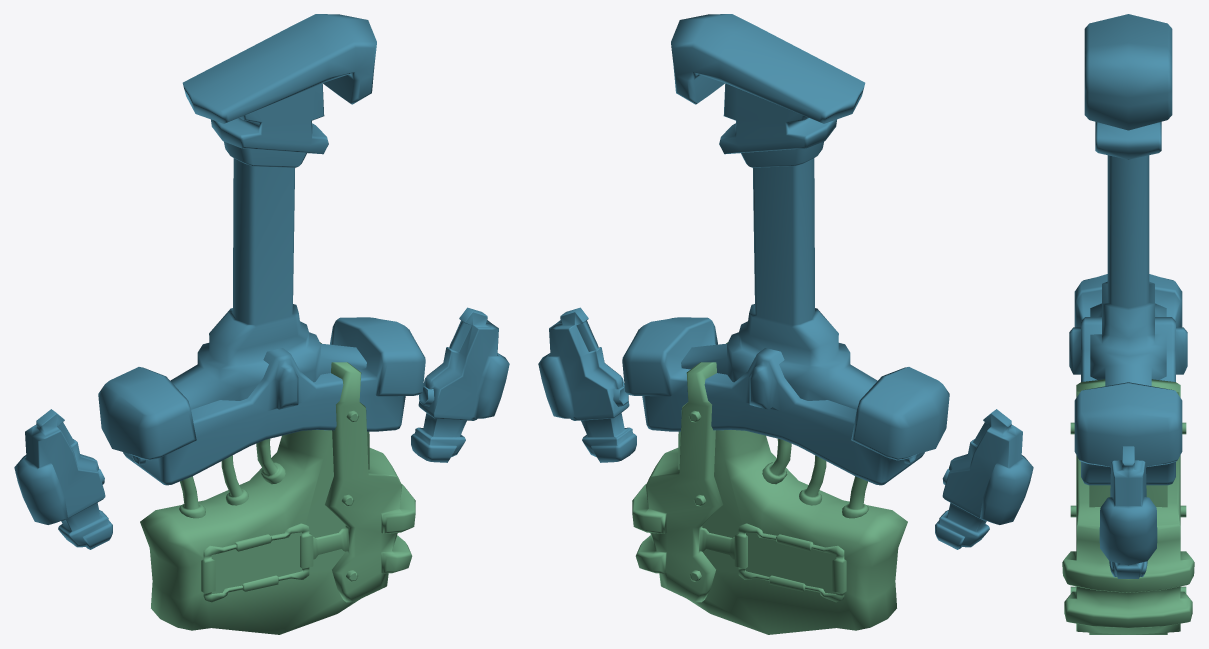
File: Sword_LP_v05.fbx
3 views of the same model, side by side, from view 1: azimuth 30°, elevation 25°; view 2: azimuth 150°, elevation 25°; view 3: azimuth 270°, elevation 25° (orthographic). The views are drawn at different scales.
Parts seen in each view (by area): view 1: heft_low, main_low, griff_bot_low, float_thing_low, griff_top_low, side_big_low, griff_mid_low, sign_screen_low, sign_frame_low, tube_3_low, tube_2_low, tube_1_low; view 2: heft_low, main_low, griff_bot_low, float_thing_low, griff_top_low, side_big_low, griff_mid_low, sign_screen_low, sign_frame_low, tube_3_low, tube_2_low, tube_1_low; view 3: heft_low, side_big_low, griff_bot_low, griff_top_low, float_thing_low, griff_mid_low, main_low, bolts_small_low.
Boxes of the visible parts, x1=… form: heft_low: x1=98, y1=317, x2=425, y2=485; main_low: x1=140, y1=430, x2=369, y2=634; griff_bot_low: x1=170, y1=141, x2=366, y2=409; float_thing_low: x1=14, y1=307, x2=509, y2=549; griff_top_low: x1=182, y1=14, x2=376, y2=123; side_big_low: x1=313, y1=342, x2=415, y2=602; griff_mid_low: x1=211, y1=83, x2=328, y2=154; sign_screen_low: x1=211, y1=532, x2=301, y2=593; sign_frame_low: x1=201, y1=523, x2=313, y2=602; tube_3_low: x1=256, y1=438, x2=285, y2=484; tube_2_low: x1=221, y1=455, x2=248, y2=505; tube_1_low: x1=179, y1=476, x2=205, y2=518; heft_low: x1=622, y1=317, x2=949, y2=485; main_low: x1=678, y1=430, x2=907, y2=634; griff_bot_low: x1=681, y1=141, x2=877, y2=409; float_thing_low: x1=538, y1=307, x2=1033, y2=549; griff_top_low: x1=671, y1=14, x2=865, y2=123; side_big_low: x1=632, y1=342, x2=734, y2=602; griff_mid_low: x1=719, y1=83, x2=836, y2=154; sign_screen_low: x1=746, y1=532, x2=836, y2=593; sign_frame_low: x1=734, y1=523, x2=846, y2=602; tube_3_low: x1=762, y1=438, x2=791, y2=484; tube_2_low: x1=799, y1=455, x2=826, y2=505; tube_1_low: x1=842, y1=476, x2=868, y2=518; heft_low: x1=1069, y1=274, x2=1187, y2=485; side_big_low: x1=1062, y1=379, x2=1194, y2=634; griff_bot_low: x1=1090, y1=155, x2=1166, y2=386; griff_top_low: x1=1084, y1=14, x2=1172, y2=130; float_thing_low: x1=1099, y1=446, x2=1157, y2=578; griff_mid_low: x1=1095, y1=122, x2=1161, y2=159; main_low: x1=1089, y1=485, x2=1167, y2=634; bolts_small_low: x1=1070, y1=422, x2=1186, y2=593.
Size of the model in its own units: 10.1 by 11.55 by 2.3.
